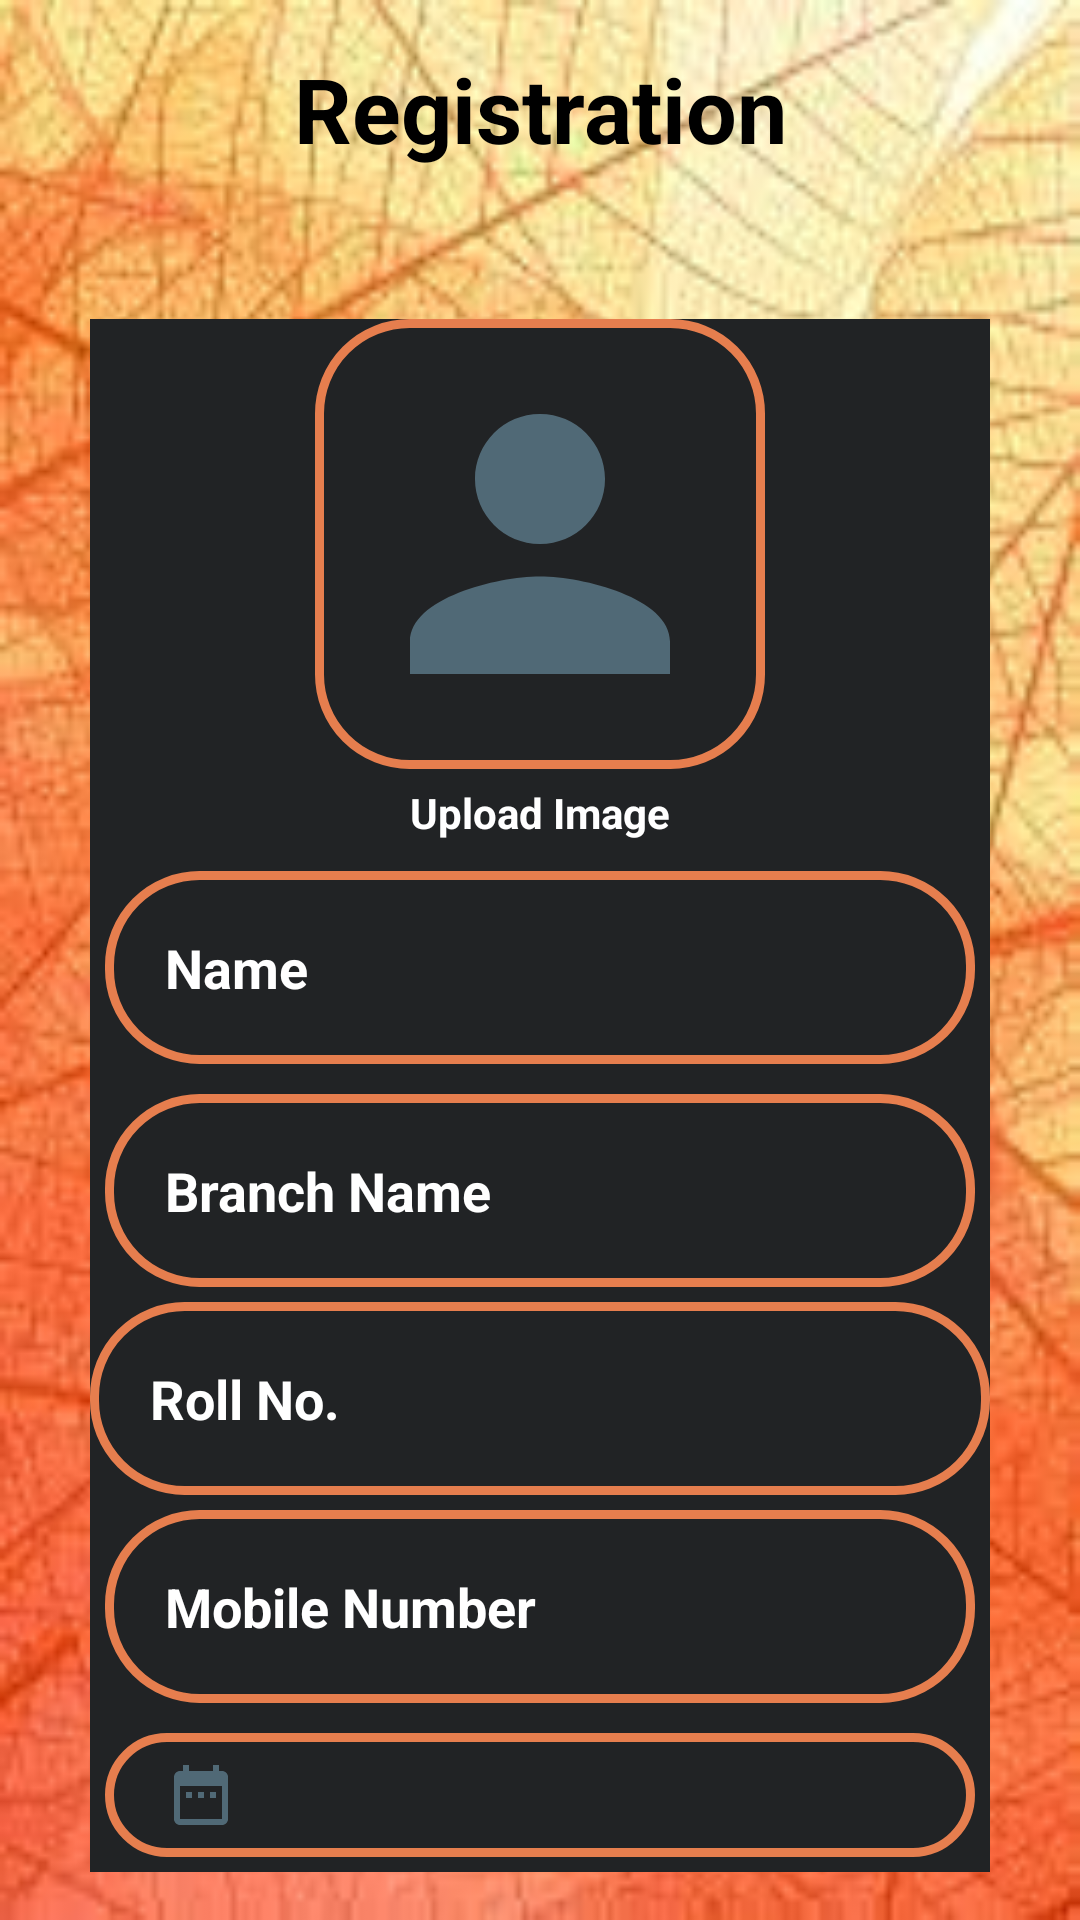

Point at icon controls on the screen. Image size 1080 × 1920, points as (x=x, y=y).
person: (x=540, y=544)
